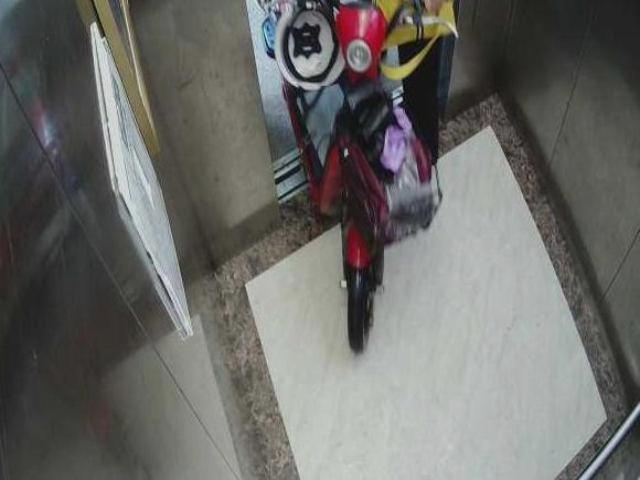emotor: (278, 8, 451, 347)
